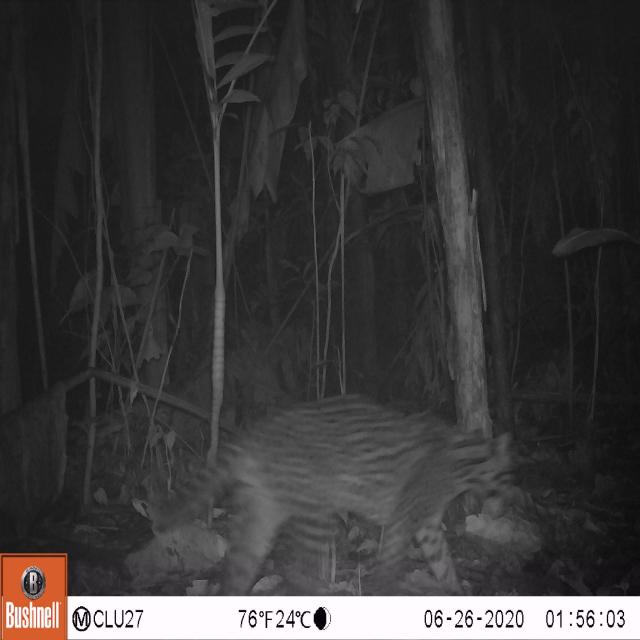Ocelote: (140, 394, 517, 596)
